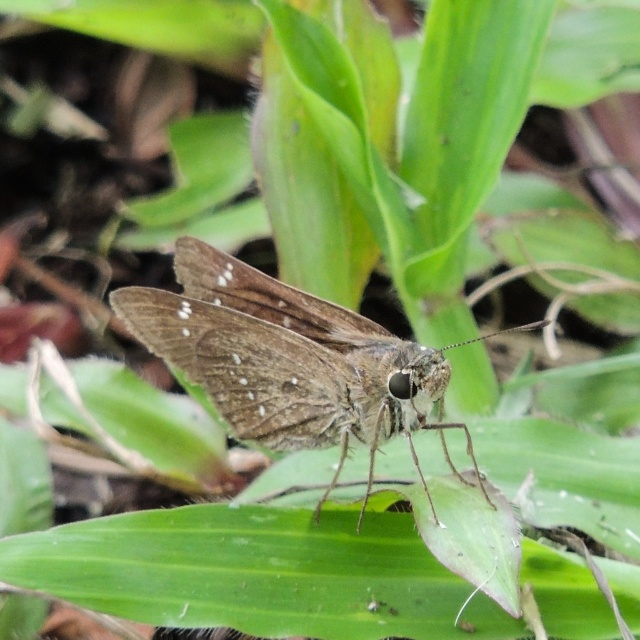Butterfly: (107, 231, 548, 532)
